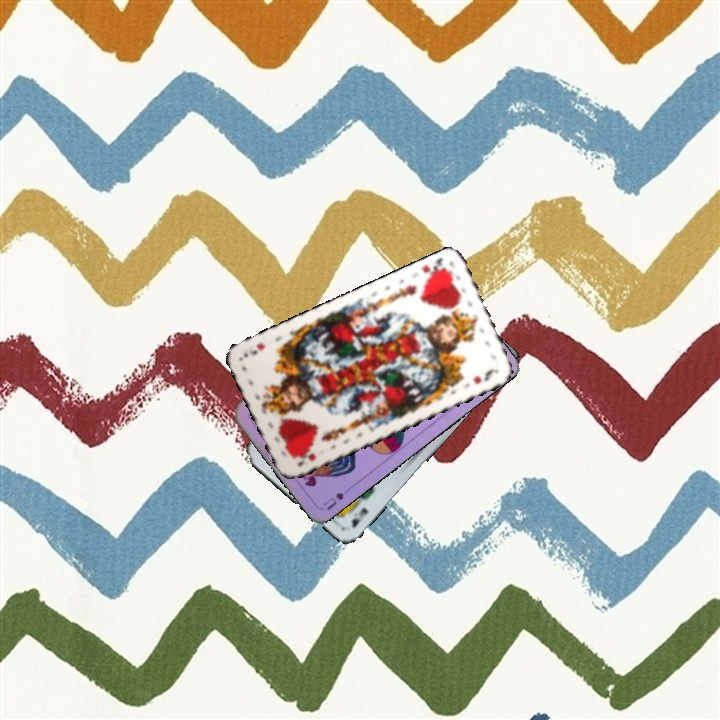EK: (347, 503, 371, 530)
HK: (418, 254, 450, 283), (294, 446, 318, 469)
SU: (319, 481, 356, 513)
